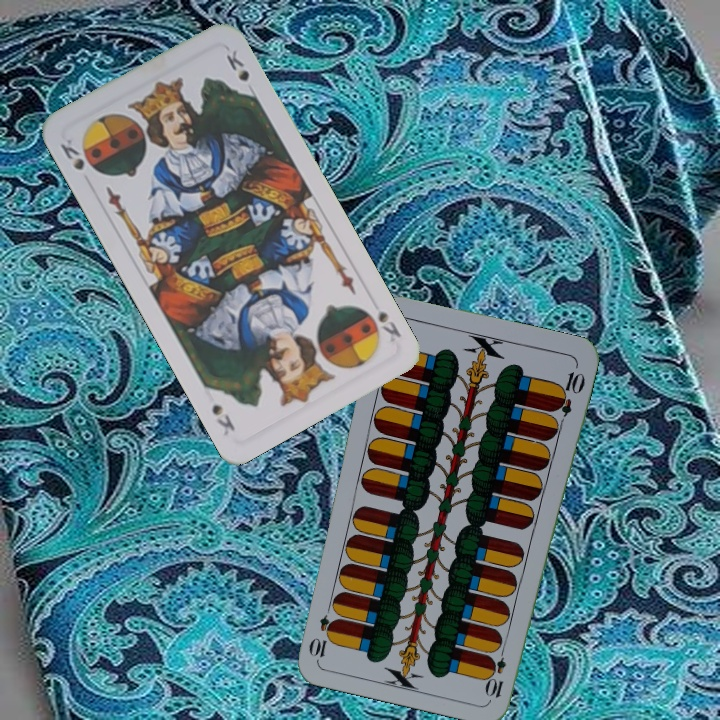E10: (484, 641, 509, 700)
SK: (359, 303, 404, 349), (56, 139, 100, 176)
